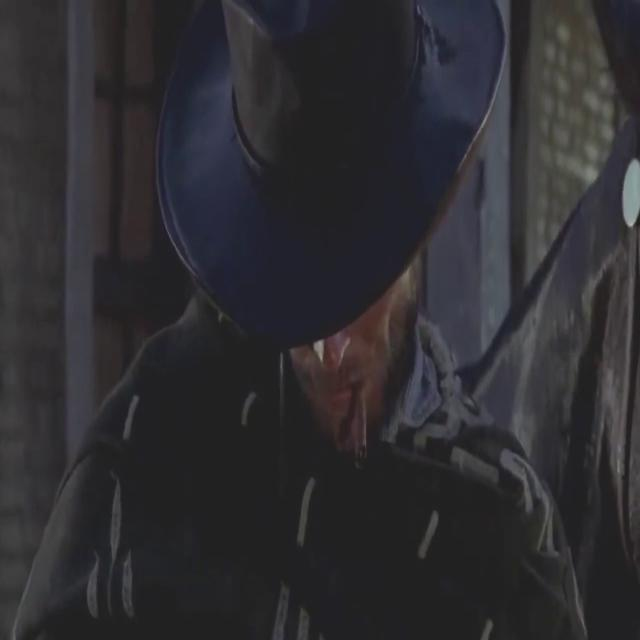Smooking: (345, 382, 374, 460)
